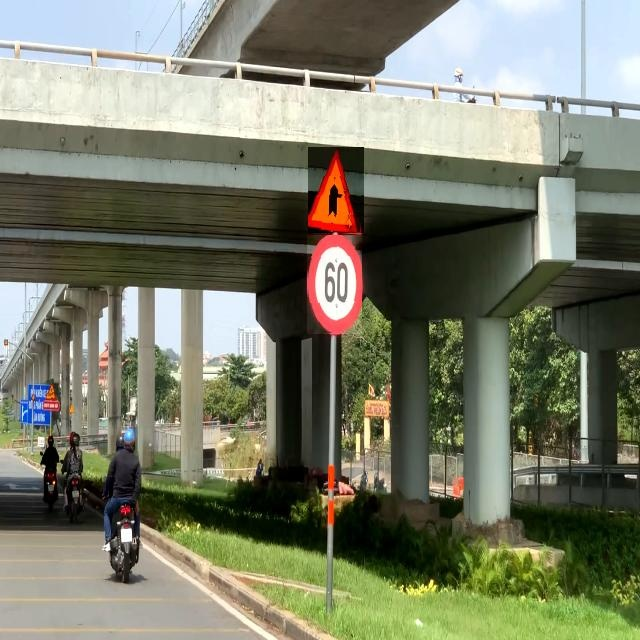bien_chi_dan: (307, 235, 362, 334), (308, 148, 364, 234), (46, 384, 58, 400)
